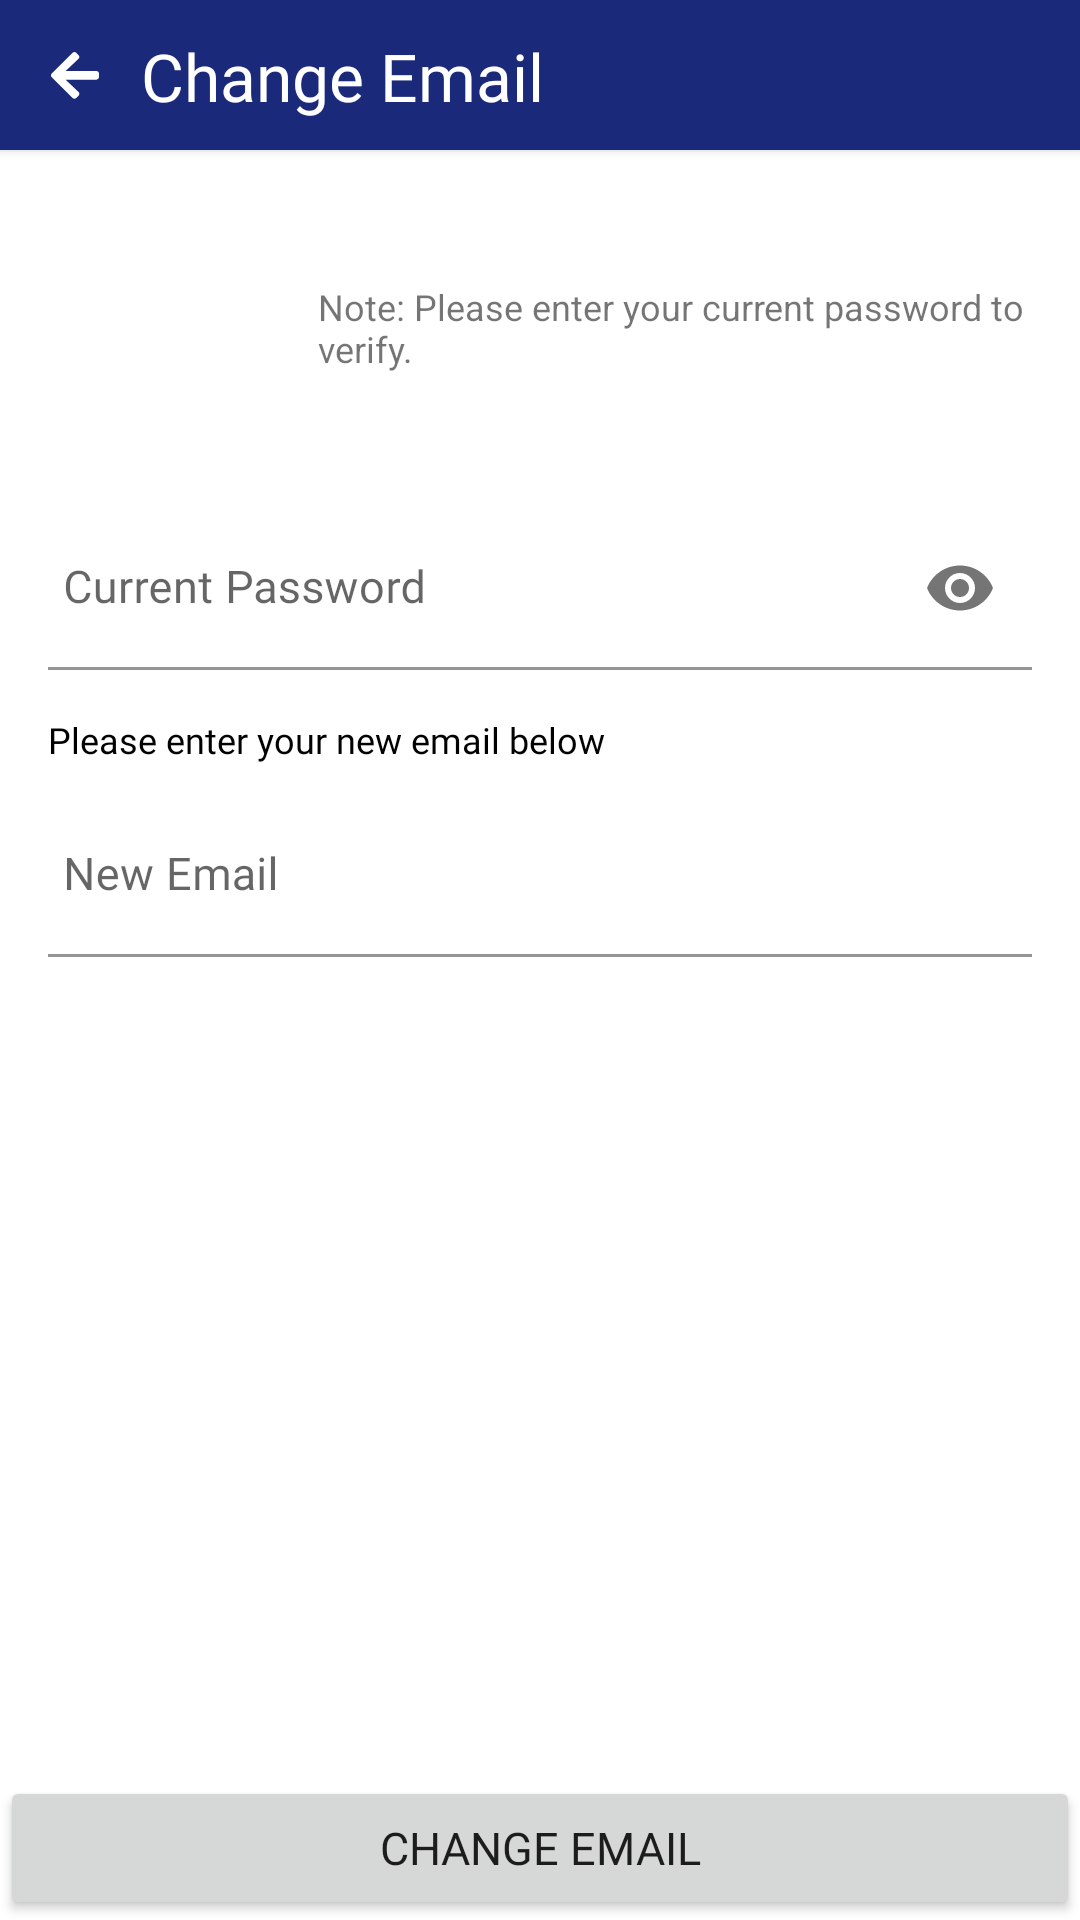

Screen size 1080 × 1920. Icon name, then its center in pixels as [x,y]:
arrow left: [75,75]
